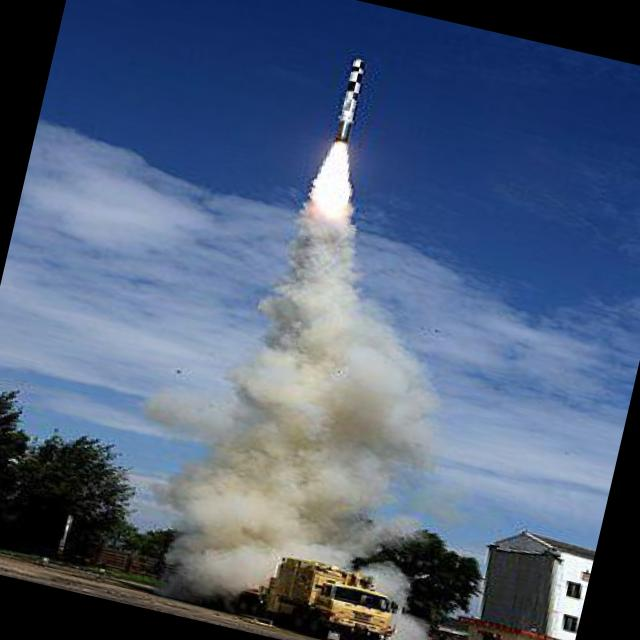rocket: (301, 45, 390, 232)
